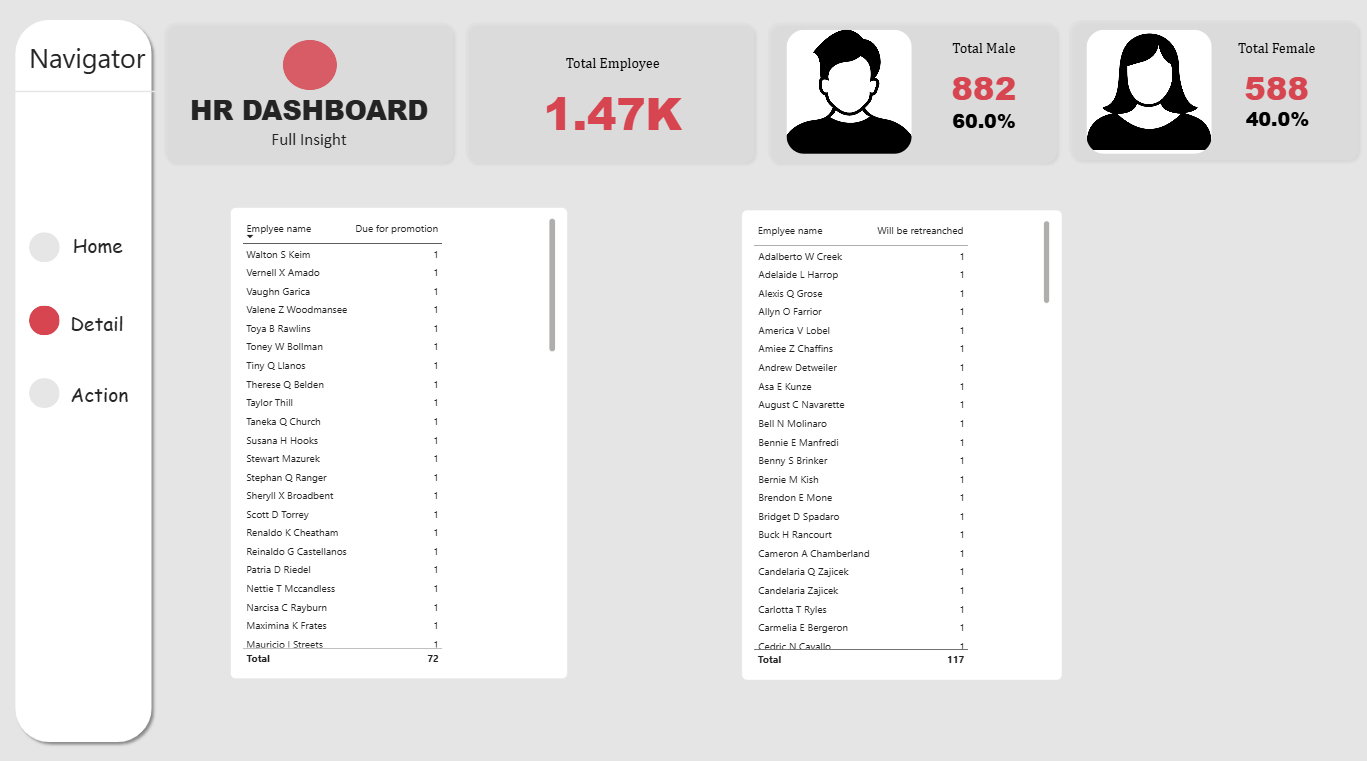

What the dashboard file says about the page in this screenshot:
{"tool":"powerbi","page":{"name":"Detail","canvas":[1920,1080],"ordinal":1},"visuals":[{"type":"shape","box":[14.5,25.3,208.1,1027.9],"z":0},{"type":"shape","box":[222.6,27.1,421.7,213.5],"z":1000},{"type":"shape","box":[644.2,27.1,421.7,213.5],"z":2000},{"type":"shape","box":[1065.9,27.1,421.7,213.5],"z":3000},{"type":"shape","box":[1487.5,25.3,421.7,213.5],"z":4000},{"type":"textbox","box":[175.5,132.1,517.6,260.6],"z":5000},{"type":"shape","box":[396.3,61.5,76,70.6],"z":6000},{"type":"cardVisual","title":"Total Male","fields":{"Data":["All mesures.Total Male"]},"box":[1221.5,61.5,311.3,162.9],"z":7000},{"type":"cardVisual","title":"Total Employee","fields":{"Data":["All mesures.Total Emp"]},"box":[703.1,82.4,311.3,121.2],"z":8000},{"type":"cardVisual","title":"Total Male","fields":{"Data":["All mesures.% Male"]},"box":[1237.8,133.9,280.5,146.6],"z":9000},{"type":"cardVisual","title":"Total Female","fields":{"Data":["All mesures.Total Female"]},"box":[1697.5,61.5,179.2,162.9],"z":10000},{"type":"cardVisual","title":"Total Male","fields":{"Data":["All mesures.% Female"]},"box":[1715.6,132.1,146.6,146.6],"z":11000},{"type":"image","box":[1102.1,47.1,175.5,173.7],"z":12000},{"type":"image","box":[1521.9,47.1,175.5,173.7],"z":13000},{"type":"tableEx","fields":{"Values":["HR employee data.Emplyee name","All mesures.Due for promotion"]},"box":[323.2,296.4,472,660],"z":14000},{"type":"tableEx","fields":{"Values":["HR employee data.Emplyee name","All mesures.Will be retreanched"]},"box":[1038.7,298.6,448.8,658.7],"z":15000},{"type":"pageNavigator","box":[41.6,331.2,43.4,247.9],"z":16000},{"type":"textbox","box":[103.2,331.2,88.7,61.5],"z":17000},{"type":"textbox","box":[99.5,439.7,300.4,99.5],"z":18000},{"type":"textbox","box":[99.5,539.3,300.4,88.7],"z":19000},{"type":"textbox","box":[41.6,61.5,181,72.4],"z":20000},{"type":"shape","box":[14.5,114,208.1,39.8],"z":21000}]}

Visuals, with their boxes in screenshot pixels (x1, y1, x2, y2), scaled from the page's 1920x1080 canvas onto the 1367x761 screenshot:
shape: crop(10, 18, 158, 742)
shape: crop(158, 19, 459, 170)
shape: crop(459, 19, 759, 170)
shape: crop(759, 19, 1059, 170)
shape: crop(1059, 18, 1359, 168)
textbox: crop(125, 93, 493, 277)
shape: crop(282, 43, 336, 93)
"Total Male" cardVisual: crop(870, 43, 1091, 158)
"Total Employee" cardVisual: crop(501, 58, 722, 143)
"Total Male" cardVisual: crop(881, 94, 1081, 198)
"Total Female" cardVisual: crop(1209, 43, 1336, 158)
"Total Male" cardVisual: crop(1221, 93, 1326, 196)
image: crop(785, 33, 910, 156)
image: crop(1084, 33, 1209, 156)
tableEx - HR employee data.Emplyee name x All mesures.Due for promotion: crop(230, 209, 566, 674)
tableEx - HR employee data.Emplyee name x All mesures.Will be retreanched: crop(740, 210, 1059, 675)
pageNavigator: crop(30, 233, 61, 408)
textbox: crop(73, 233, 137, 277)
textbox: crop(71, 310, 285, 380)
textbox: crop(71, 380, 285, 443)
textbox: crop(30, 43, 158, 94)
shape: crop(10, 80, 158, 108)
